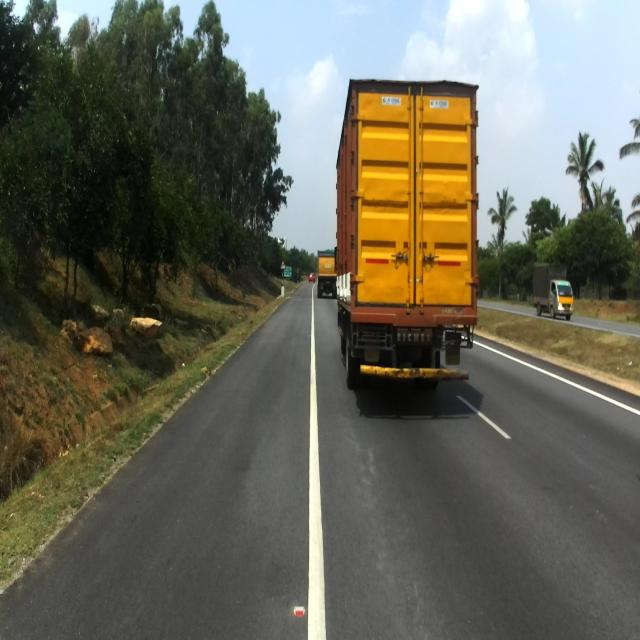truck: (334, 77, 479, 389), (530, 261, 579, 329), (315, 250, 340, 304)
